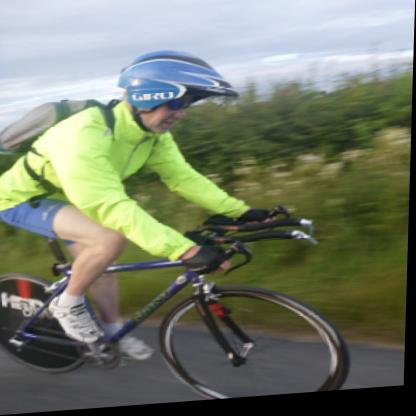With Helmet: (120, 41, 242, 143)
